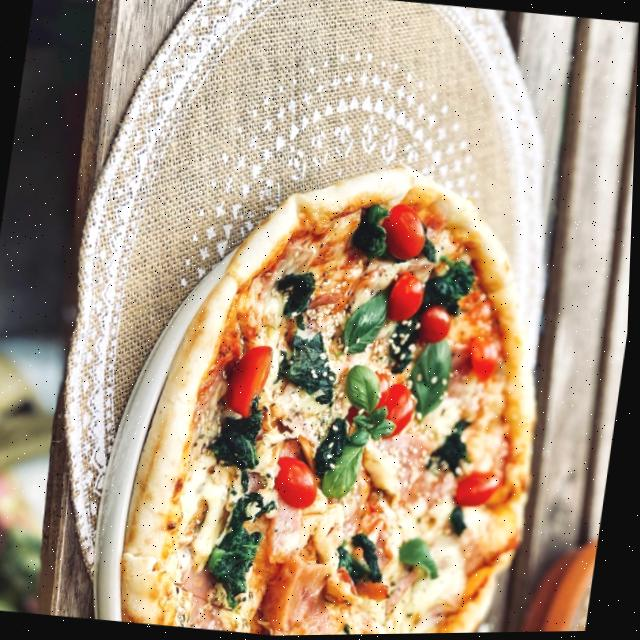basil: (205, 488, 281, 612), (340, 365, 404, 453), (206, 524, 266, 611), (277, 330, 343, 408), (209, 396, 268, 475), (407, 337, 457, 420), (342, 287, 391, 358), (422, 258, 479, 319), (432, 419, 477, 478), (322, 444, 366, 503), (315, 417, 354, 480), (351, 203, 392, 261), (274, 270, 319, 321), (209, 431, 263, 472), (343, 364, 386, 415), (400, 538, 446, 581), (350, 533, 388, 579), (420, 226, 443, 265), (347, 554, 375, 586), (463, 513, 467, 519)
pizza: (117, 143, 573, 638)
tomatoes: (226, 343, 275, 420), (378, 203, 430, 264), (275, 457, 323, 511), (387, 271, 428, 325), (384, 383, 419, 441), (456, 470, 504, 511), (418, 305, 453, 346)
